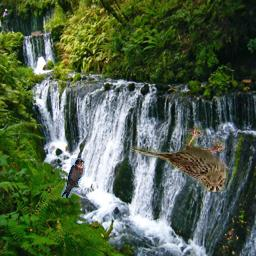Sparrow: (131, 126, 230, 192)
Swallow: (62, 158, 85, 198)
